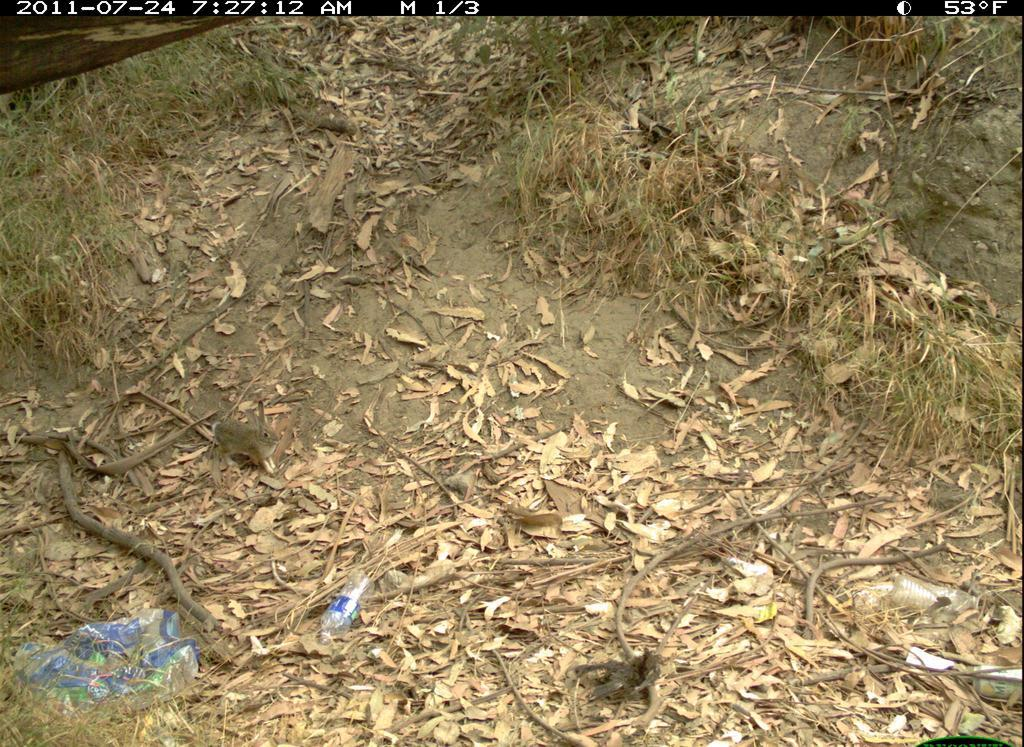rabbit: (209, 399, 287, 480)
